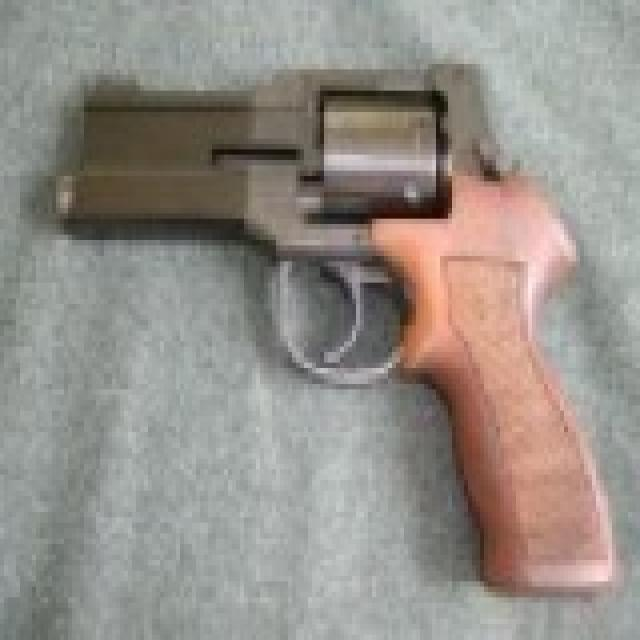Gun: (56, 52, 624, 610)
